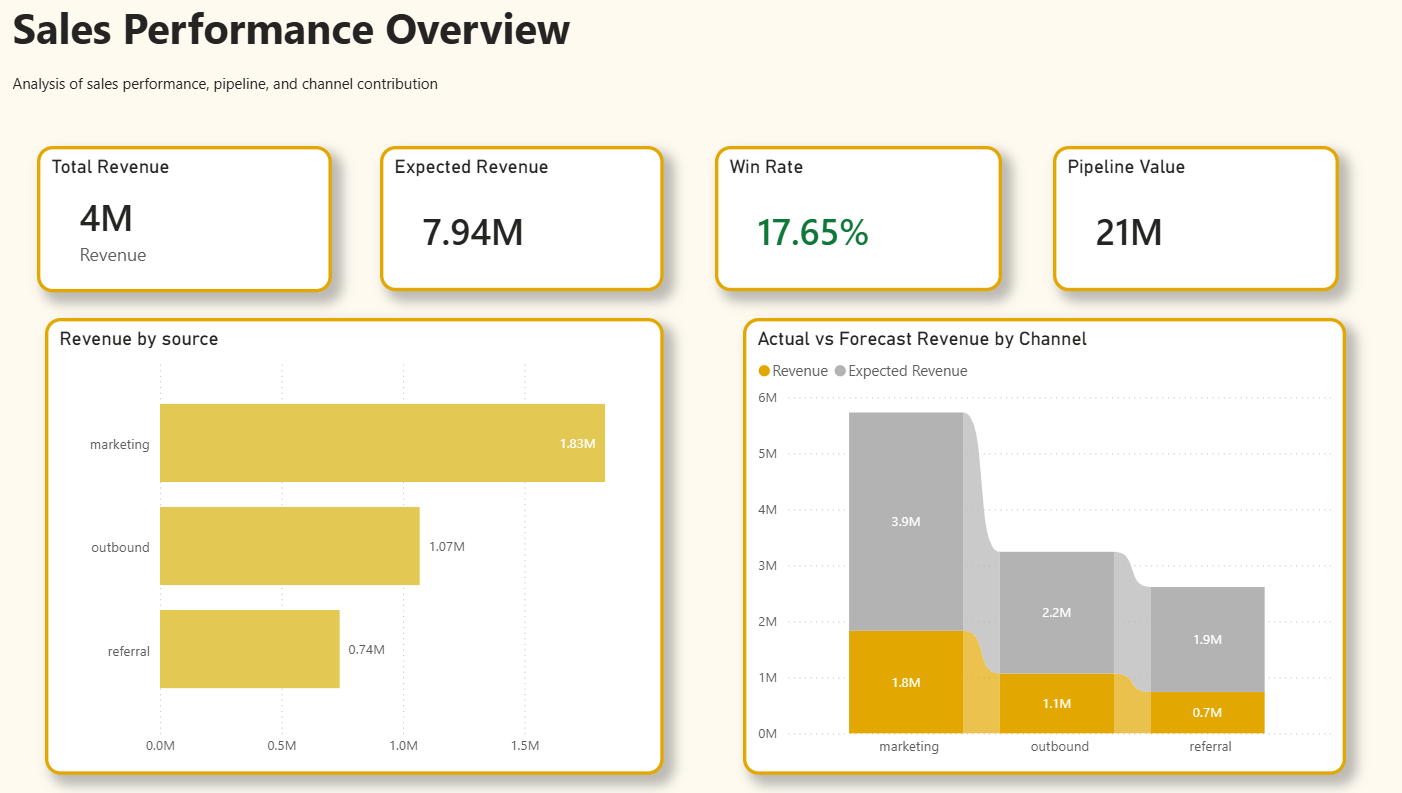

Layout of this report page (visuals, bound fields, positions):
{"tool":"powerbi","page":{"name":"Sales Overview","canvas":[1280,720],"ordinal":0},"visuals":[{"type":"cardVisual","title":"Total Revenue","fields":{"Data":["sales_data.Revenue"]},"box":[36.7,136.1,264.2,130.7],"z":0},{"type":"cardVisual","title":"Expected Revenue","fields":{"Data":["sales_data.Expected Revenue"]},"box":[344.3,136.2,253.9,130.3],"z":1000},{"type":"cardVisual","title":"Win Rate","fields":{"Data":["sales_data.Win Rate"]},"box":[643.9,136.2,256.8,130.3],"z":2000},{"type":"cardVisual","title":"Pipeline Value","fields":{"Data":["sales_data.Pipeline Value"]},"box":[946.4,136.2,255.8,130.3],"z":3000},{"type":"clusteredBarChart","title":"Revenue by source","fields":{"Category":["sales_data.source"],"Y":["sales_data.Revenue"]},"box":[43.8,289.8,554.4,409.5],"z":4000},{"type":"columnChart","title":"Actual vs Forecast Revenue by Channel","fields":{"Category":["sales_data.source"],"Y":["sales_data.Revenue","sales_data.Expected Revenue"]},"box":[669.2,289.8,539.8,409.5],"z":5000},{"type":"textbox","box":[9.7,0,606.9,66.1],"z":6000},{"type":"textbox","box":[9.7,66.1,392.9,32.1],"z":7000}]}

Visuals, with their boxes in screenshot pixels (x1, y1, x2, y2), scaled from the page's 1280x720 canvas onto the 1402x793 screenshot:
"Total Revenue" cardVisual: left=40, top=150, right=330, bottom=294
"Expected Revenue" cardVisual: left=377, top=150, right=655, bottom=294
"Win Rate" cardVisual: left=705, top=150, right=987, bottom=294
"Pipeline Value" cardVisual: left=1037, top=150, right=1317, bottom=294
"Revenue by source" clusteredBarChart: left=48, top=319, right=655, bottom=770
"Actual vs Forecast Revenue by Channel" columnChart: left=733, top=319, right=1324, bottom=770
textbox: left=11, top=0, right=675, bottom=73
textbox: left=11, top=73, right=441, bottom=108
